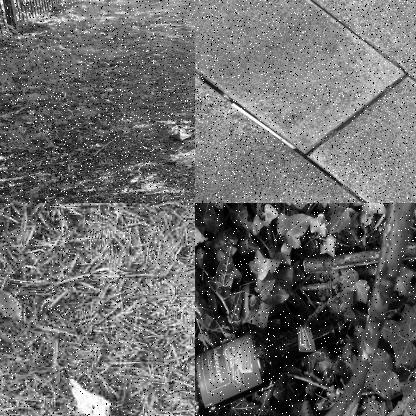plastic: (195, 309, 350, 415), (58, 379, 118, 415), (167, 121, 194, 145)
